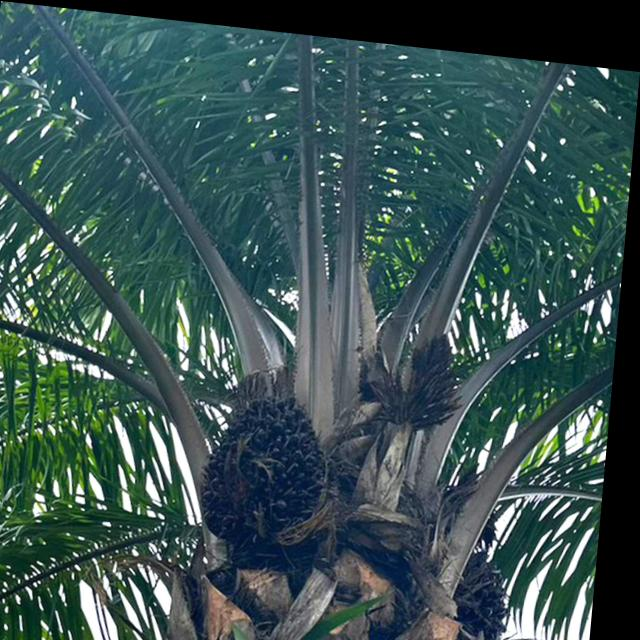almost: (200, 373, 351, 554), (448, 525, 536, 640)
